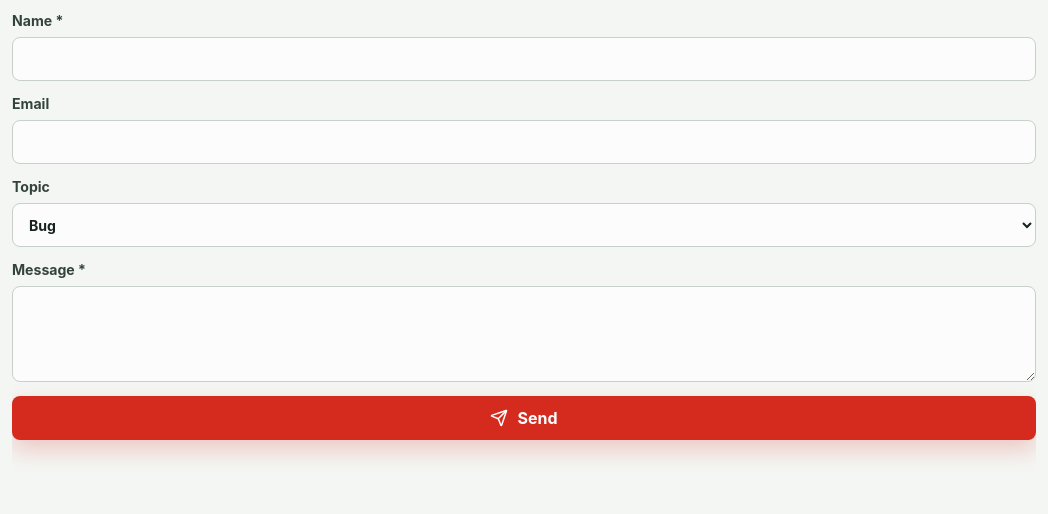
Test: NetlifyForm › shows the HTTP status on a failed submission and lets the user retry
Type "Jane & Co" into the field labelled "Name *" at (524, 59), box [12, 37, 1036, 81]
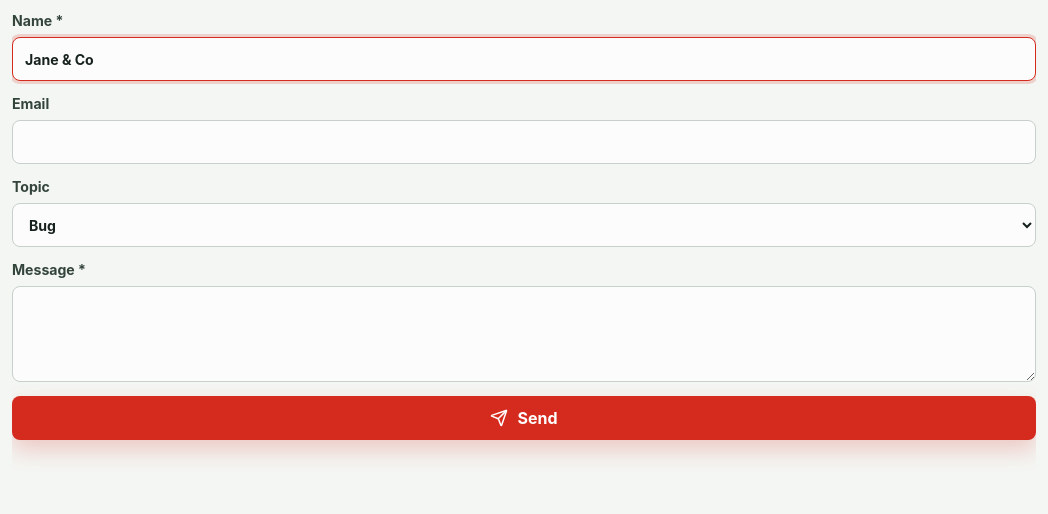
Type "jane@example.com" into the field labelled "Email" at (524, 142), box [12, 120, 1036, 164]
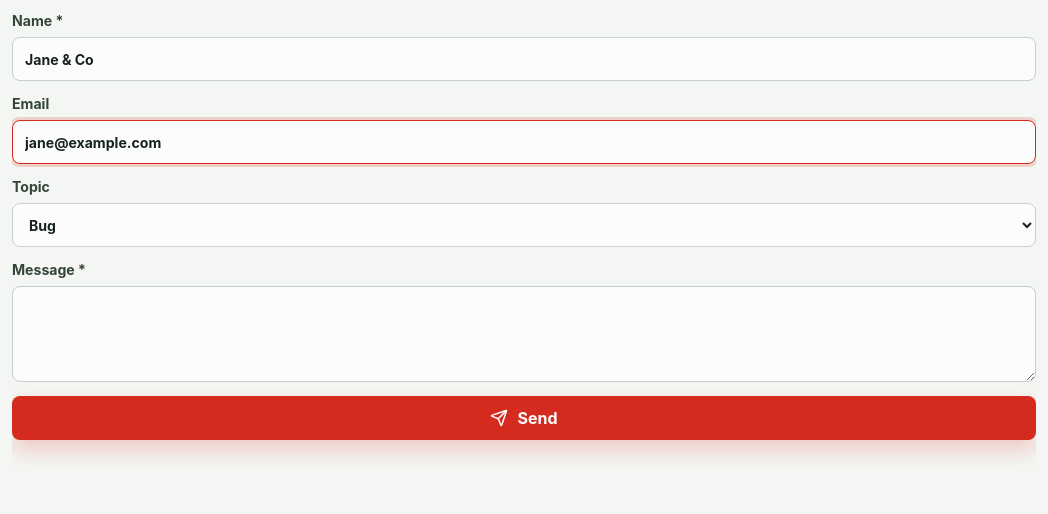
Select "Feature" in the dropdown labelled "Topic" at (524, 225), box [12, 203, 1036, 247]
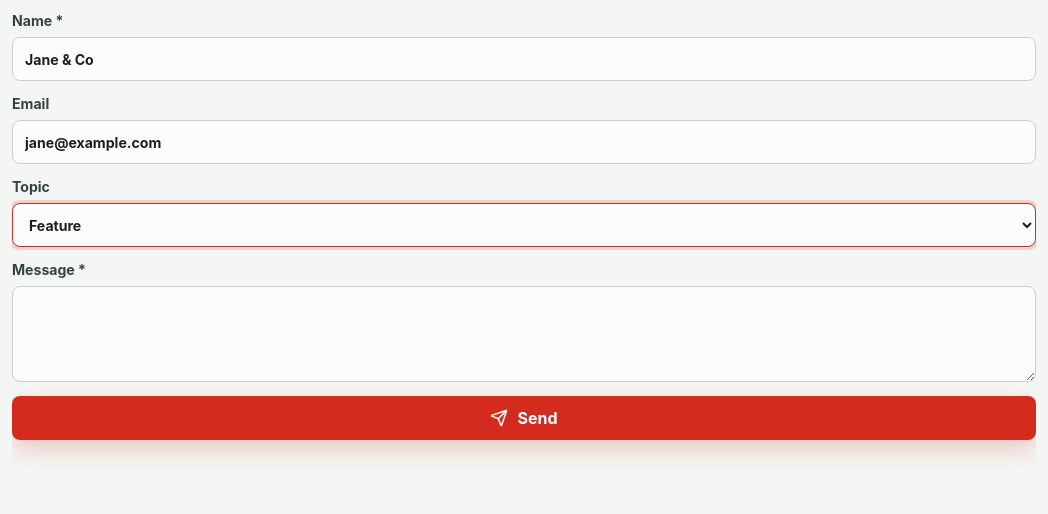
Type "Hi there" into the text box labelled "Message *" at (524, 334), box [12, 286, 1036, 382]
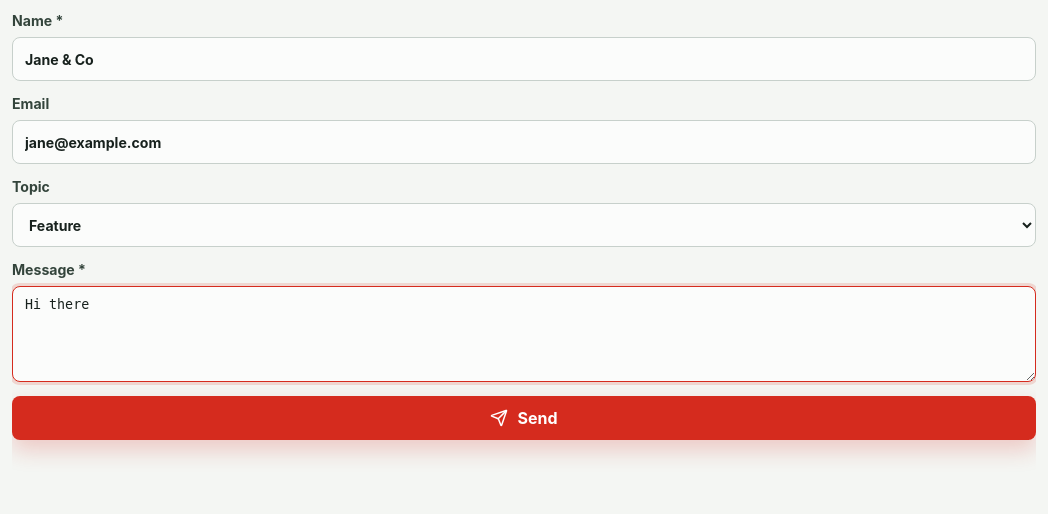
Click the button "Send" at (524, 418), box [12, 396, 1036, 440]
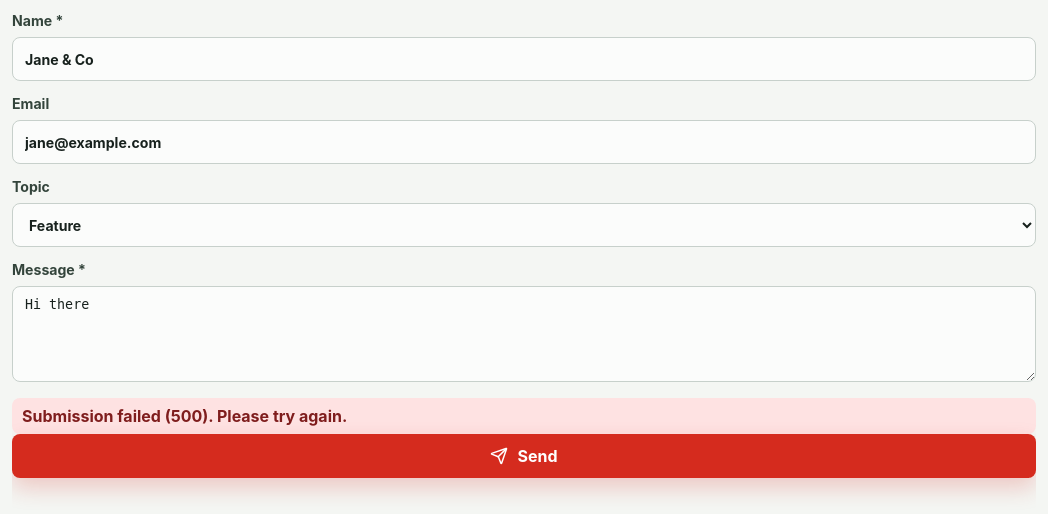
Expected: the button "Send" is enabled, [12, 434, 1036, 478]
Expected: the text "Submission failed (500). Please try again." is shown, [12, 398, 1036, 434]
